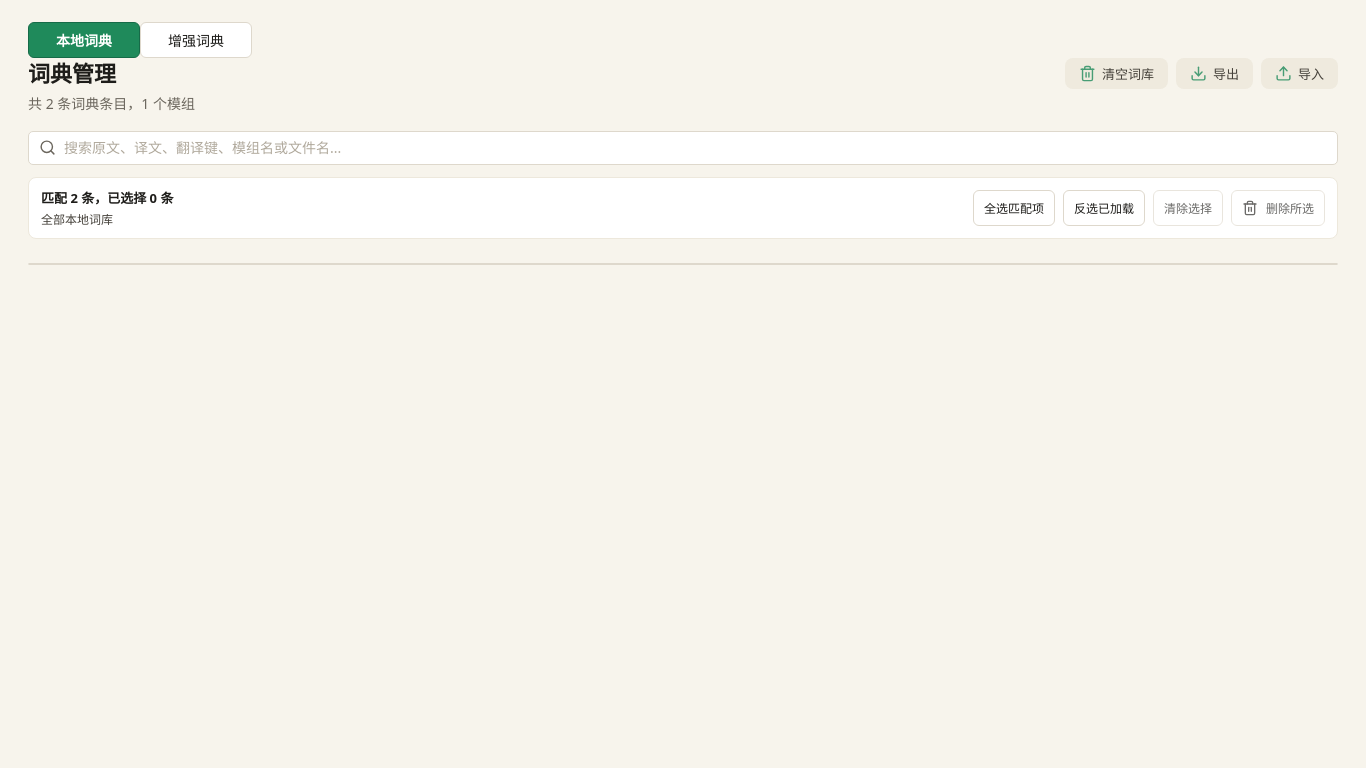
Test case: DictionaryPage bulk selection › confirms and deletes the selected query
Expected: the text "匹配 2 条，已选择 0 条" is shown, top-left (41, 188), bottom-right (173, 207)
Click the button "全选匹配项" at (1014, 208), box top-left (973, 190), bottom-right (1055, 226)
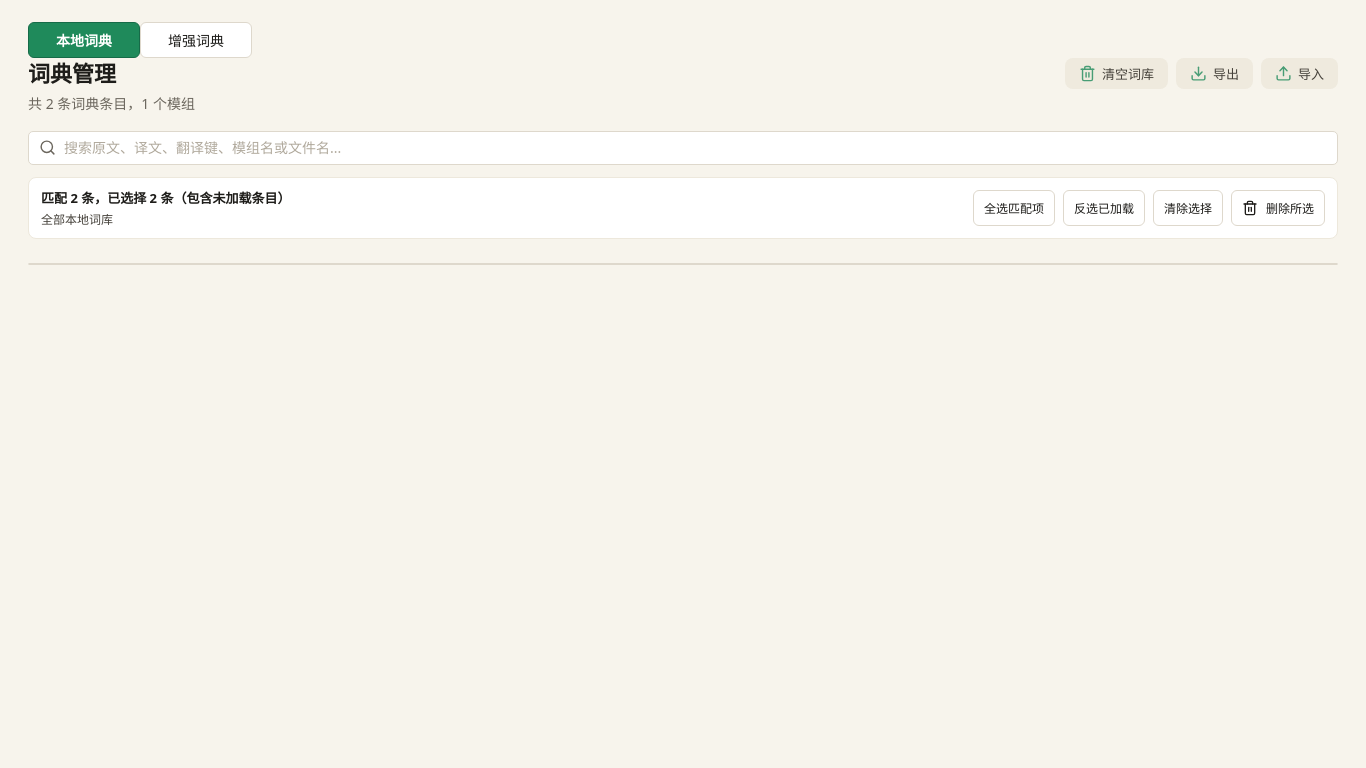
Click the button "删除所选" at (1278, 208), box top-left (1231, 190), bottom-right (1325, 226)
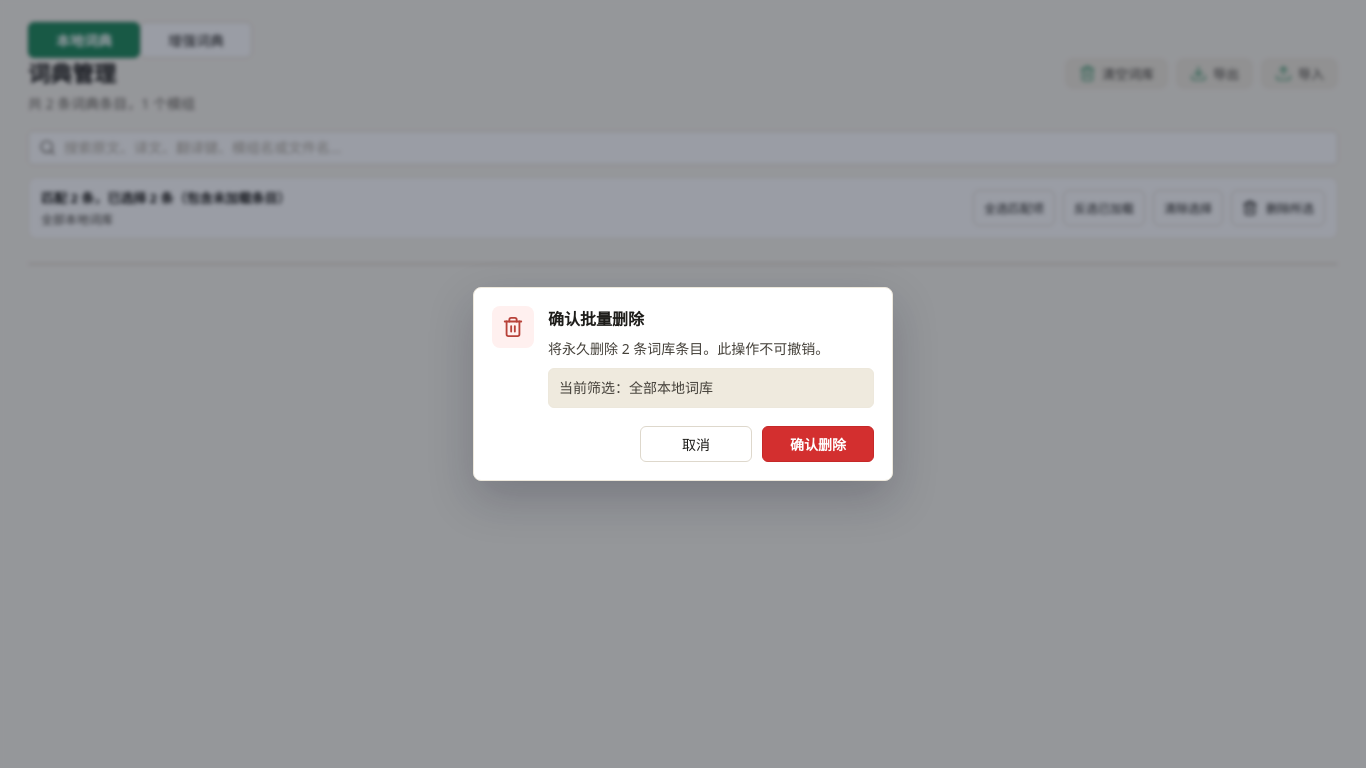
Click the button "确认删除" at (818, 444), box top-left (762, 426), bottom-right (874, 462)
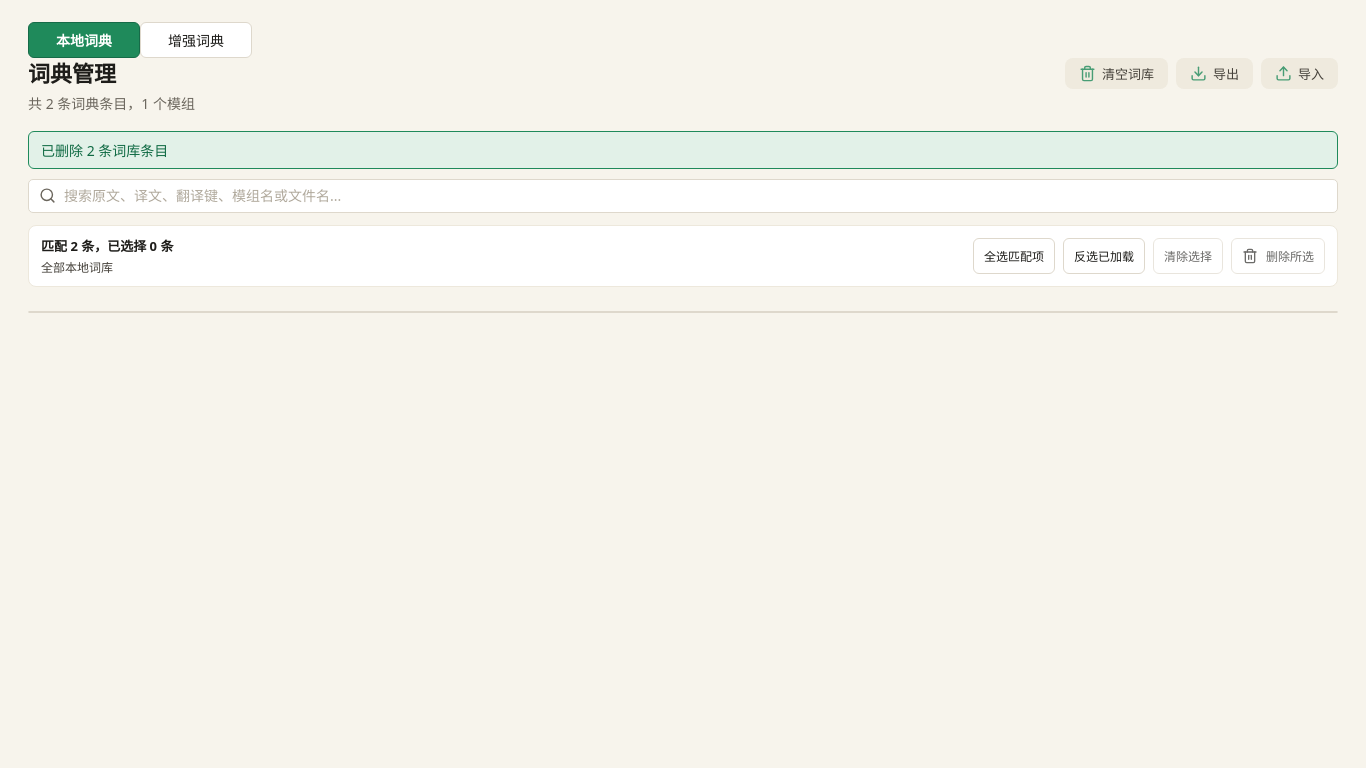
Result: the text "已删除 2 条词库条目" is shown at top-left (28, 131), bottom-right (1338, 169)
